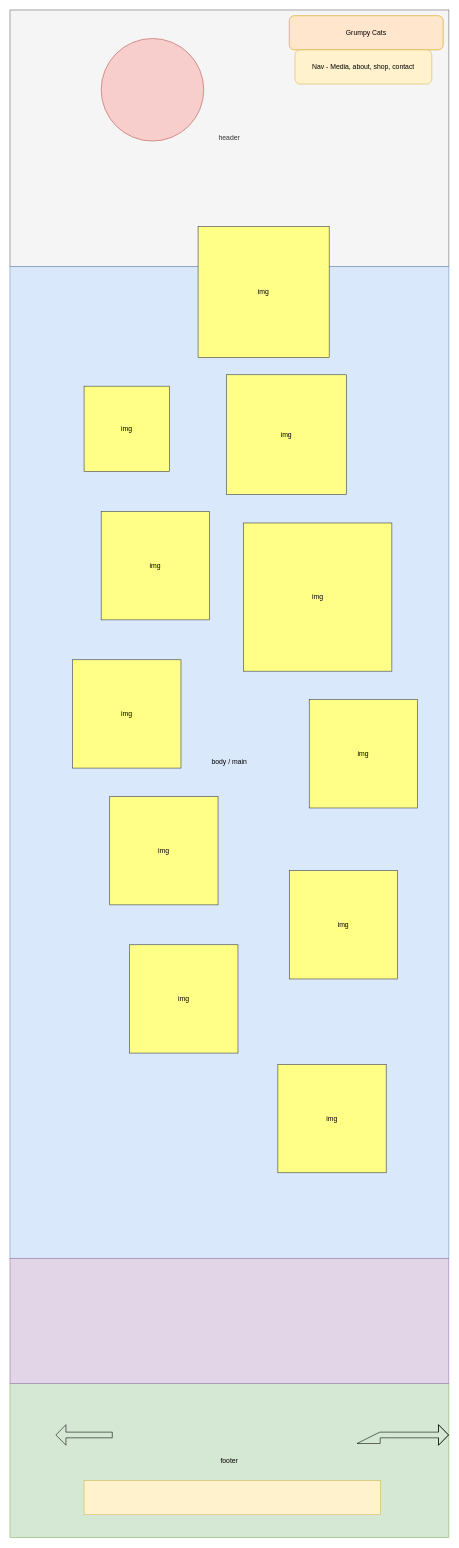
The diagram is 459 pixels wide and 1548 high, and some of its shapes have lost their labels. The shapes that lost their labels are listed below. From the top down, each one's centre as x and y in pixels, then its label:
At point (152, 89): "Grumpy CAT".
At point (229, 1321): "shop slide bar".
At point (232, 1497): "repeat nav bar".
